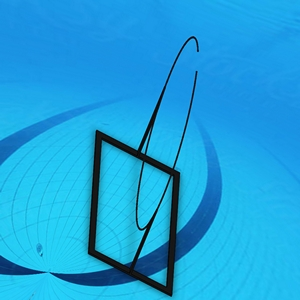circle: (88, 34, 204, 298)
